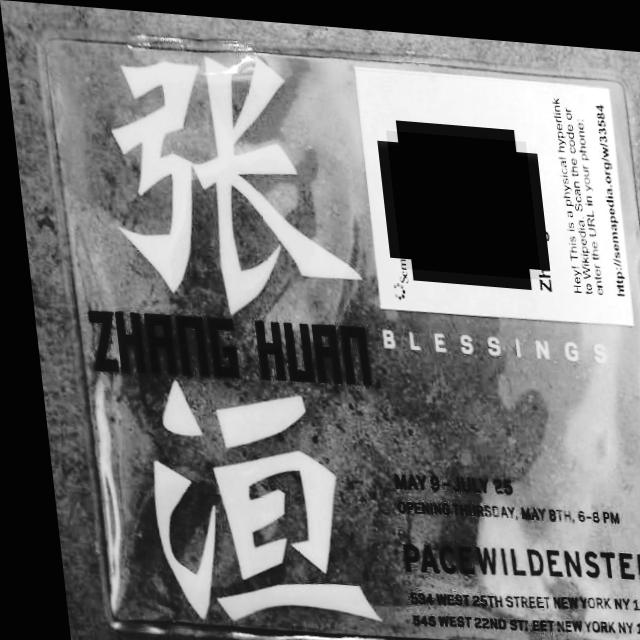qr_code: (384, 124, 536, 271)
